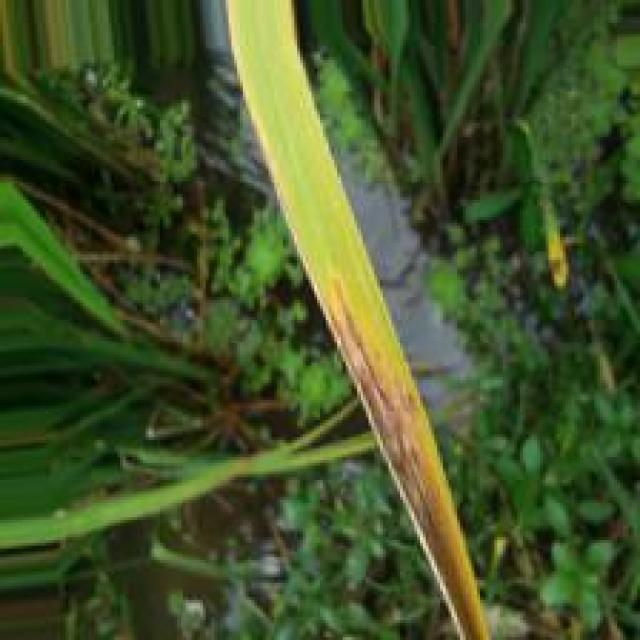Leaf_Scald: (316, 277, 483, 640)
